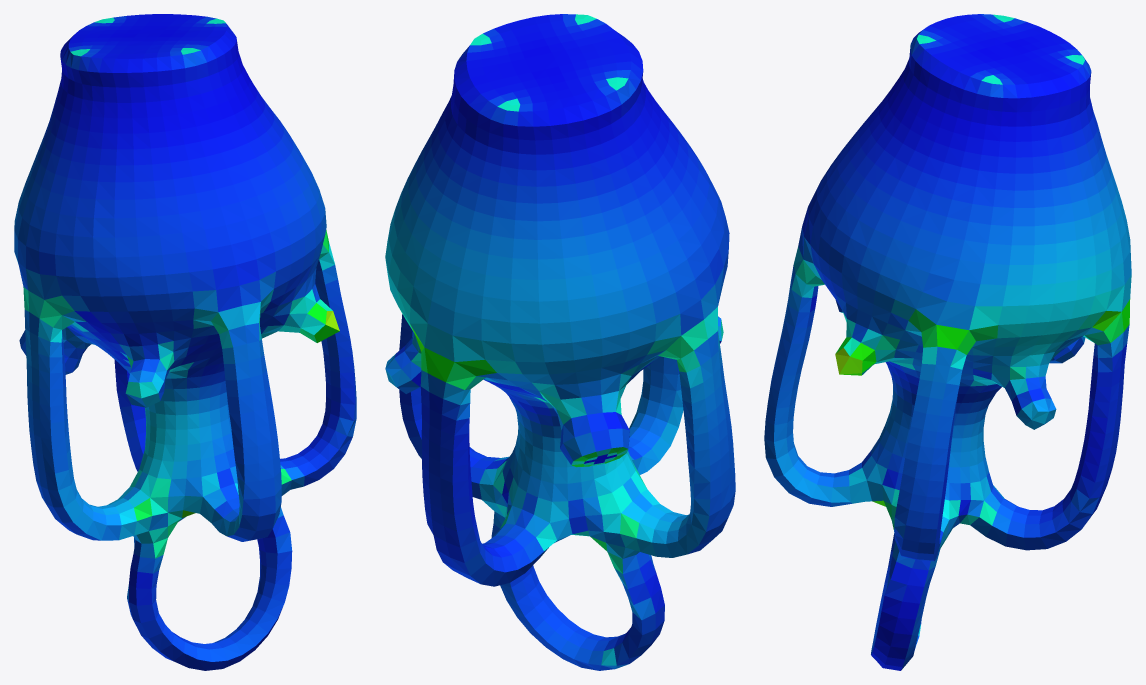
File: botijo1_opt_quality.obj
The picture shows the model from 3 angles, left to right: view 1: azimuth 30°, elevation 25°; view 2: azimuth 150°, elevation 25°; view 3: azimuth 270°, elevation 25°; orthographic projection. The views are drawn at different scales.
Bounding box in the file's own units: 146 × 281 × 151.
